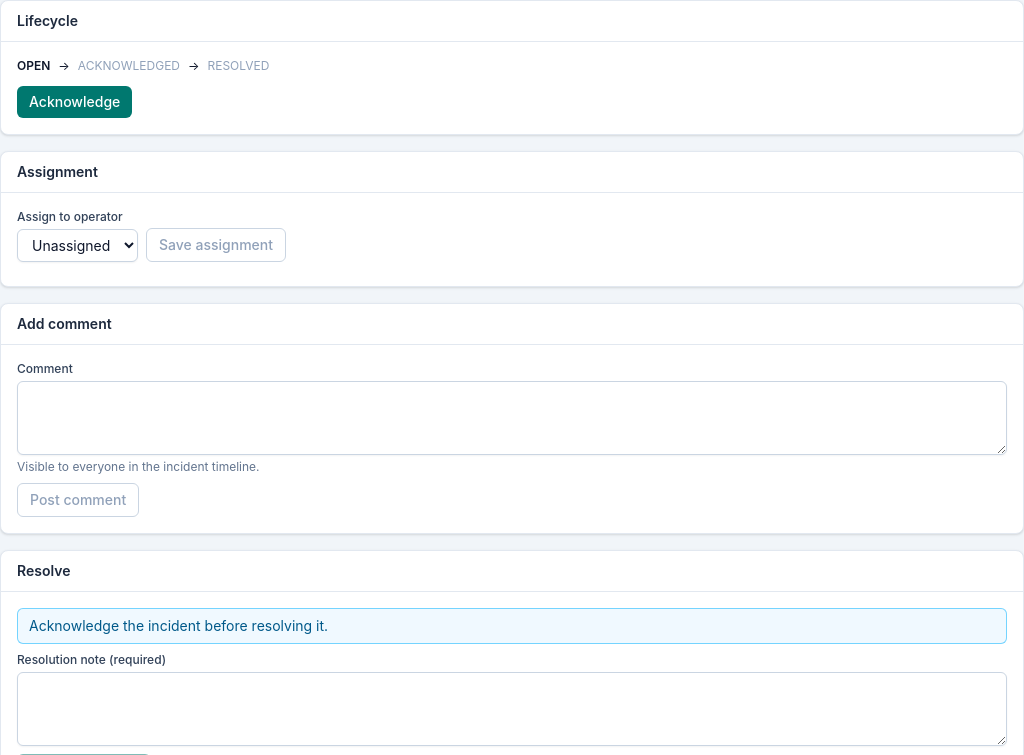
Scenario: IncidentActions › shows a conflict notice when acknowledge hits a version conflict
Click the button "Acknowledge".
click(75, 102)  # box [17,86,132,118]
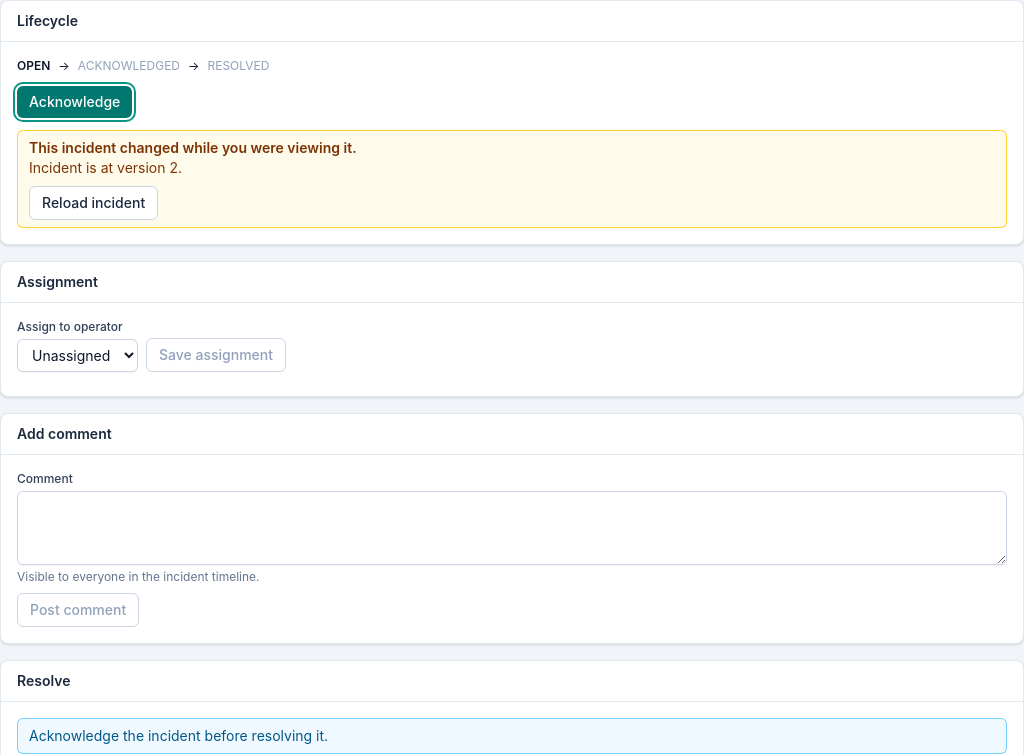
Expected: the text "This incident changed while you were viewing it." is shown, [29,139,357,156]
Expected: the text "Incident is at version 2." is shown, [29,159,182,176]
Expected: the button "Reload incident" is shown, [29,186,158,220]
